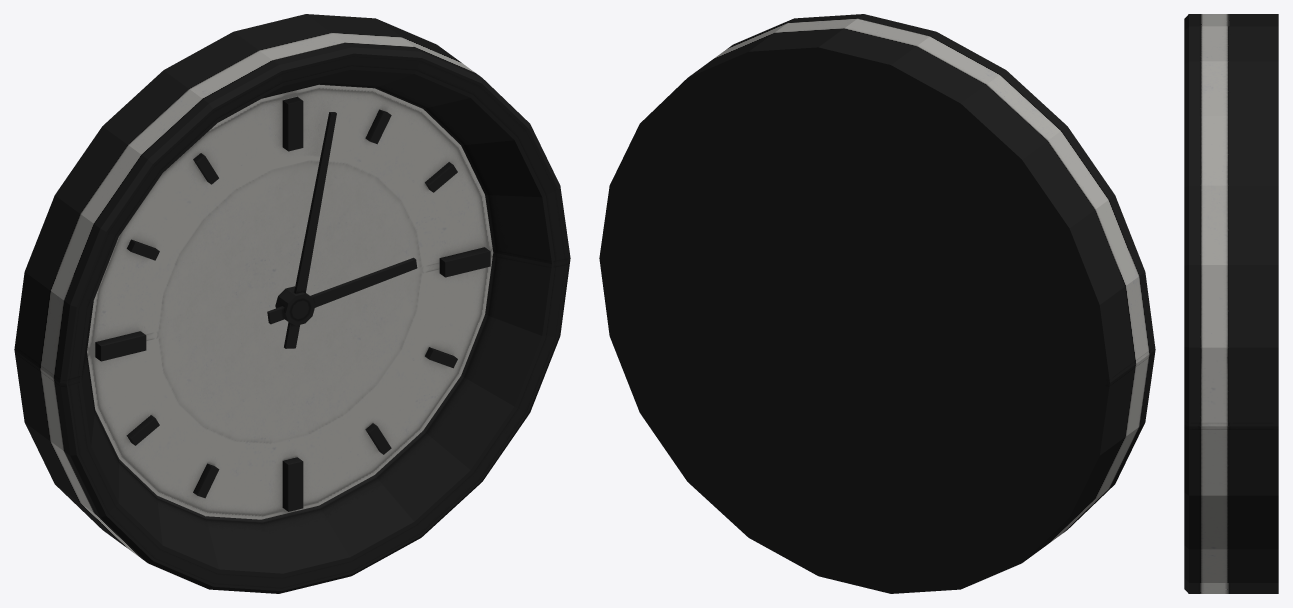
Rendered from Clock.glb.
3 renders of one model, left to right at view 1: azimuth 30°, elevation 25°; view 2: azimuth 150°, elevation 25°; view 3: azimuth 270°, elevation 25°, orthographic.
Visible parts, largest first — view 1: huitugou_7010_05; view 2: huitugou_7010_05; view 3: huitugou_7010_05.
Part boxes in pixels (<box>): huitugou_7010_05: <box>14,14,570,593</box>; huitugou_7010_05: <box>599,14,1155,593</box>; huitugou_7010_05: <box>1184,14,1278,593</box>.
Size of the model in its own units: 0.4185 by 0.4143 by 0.0681.
Materials: 1 (1 with a texture image).
